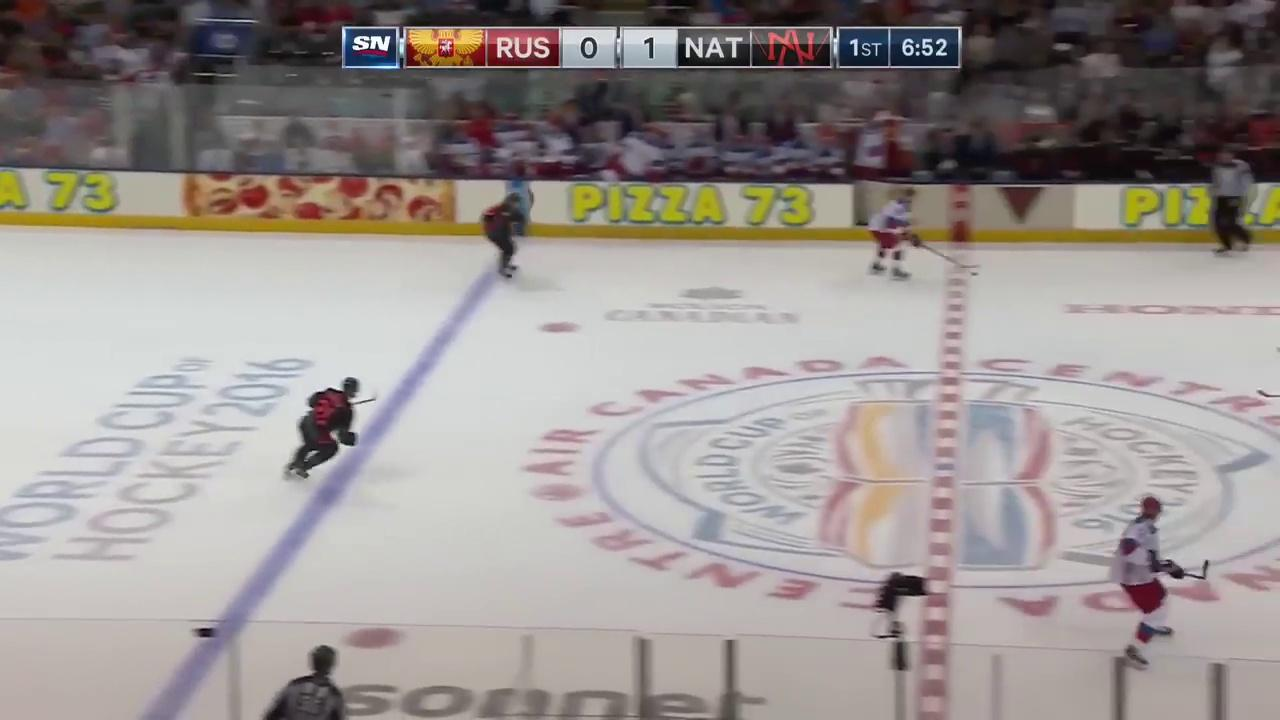ball: (971, 272, 979, 276)
